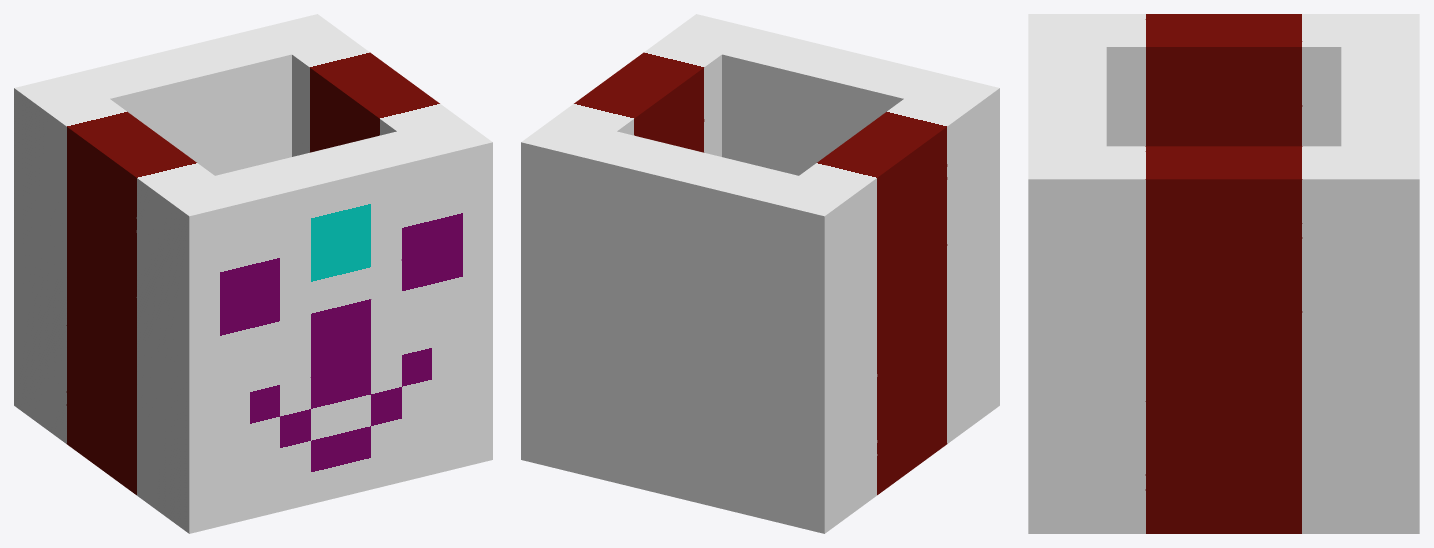
Rendered from Jeen.fbx.
The picture shows the model from 3 angles, left to right: view 1: azimuth 30°, elevation 25°; view 2: azimuth 150°, elevation 25°; view 3: azimuth 270°, elevation 25°; orthographic projection. The views are drawn at different scales.
Parts seen in each view (by area): view 1: Jeen; view 2: Jeen; view 3: Jeen.
Part boxes in pixels (bbox=[...]): Jeen: bbox=[14, 14, 492, 533]; Jeen: bbox=[521, 14, 999, 533]; Jeen: bbox=[1028, 14, 1419, 533].
Bounding box in the file's own units: 10 × 10 × 10.
1 material, 1 textured.
